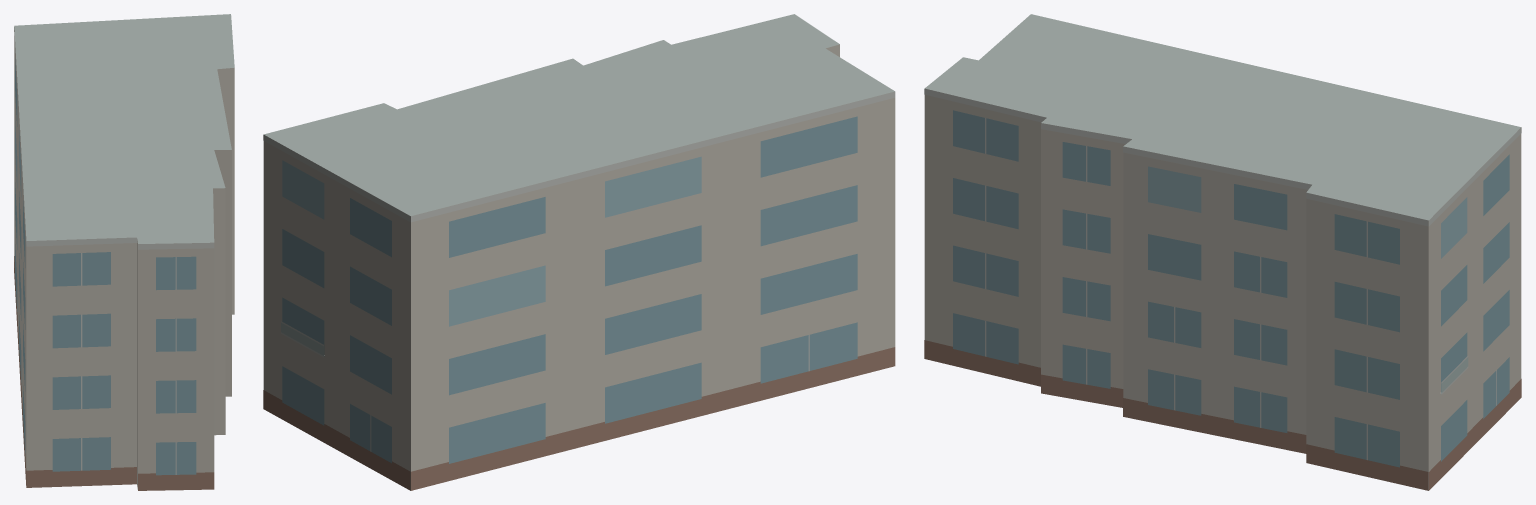
File: survey-upis-32756847.glb
The picture shows the model from 3 angles, left to right: view 1: azimuth 30°, elevation 25°; view 2: azimuth 150°, elevation 25°; view 3: azimuth 270°, elevation 25°; orthographic projection. The views are drawn at different scales.
Parts seen in each view (by area): view 1: survey-upis-32756847.tmp; view 2: survey-upis-32756847.tmp; view 3: survey-upis-32756847.tmp.
Part boxes in pixels (box(x1,y1,x2,y2)): survey-upis-32756847.tmp: box(14, 14, 234, 490); survey-upis-32756847.tmp: box(263, 14, 895, 490); survey-upis-32756847.tmp: box(924, 14, 1521, 490).
Bounding box in the file's own units: 17.7 × 10.8 × 21.62.
